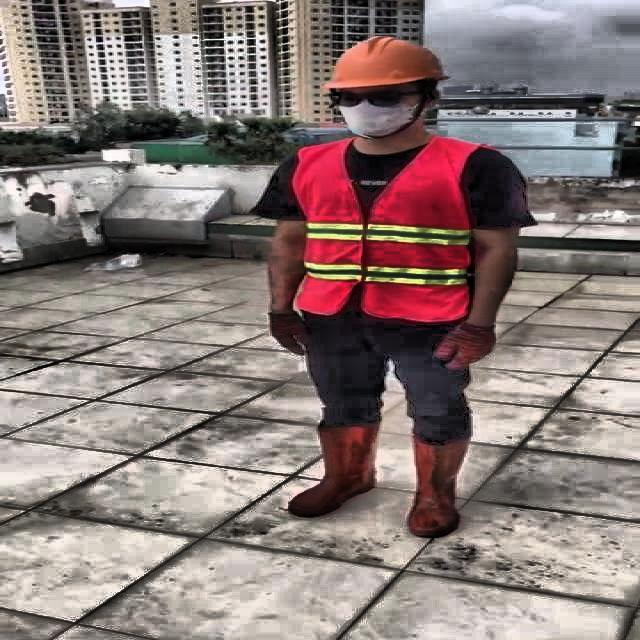safety_helmet: (319, 32, 452, 92)
safety_jacket: (297, 141, 473, 323)
